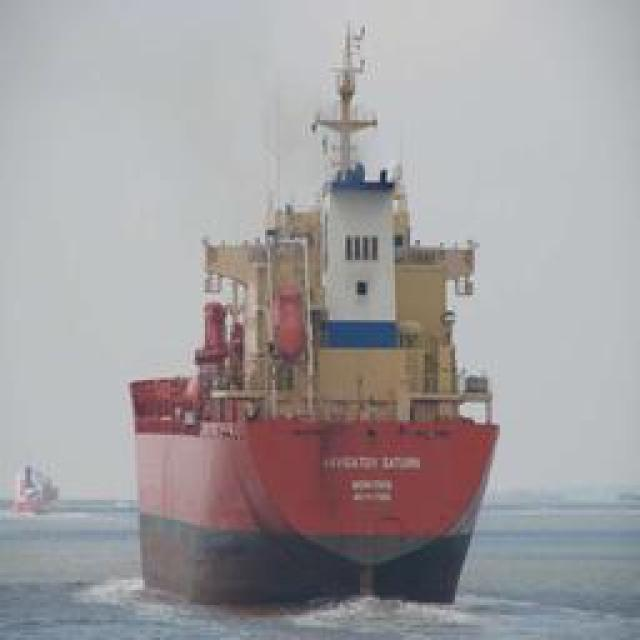CIV_Ship: (148, 168, 496, 606)
